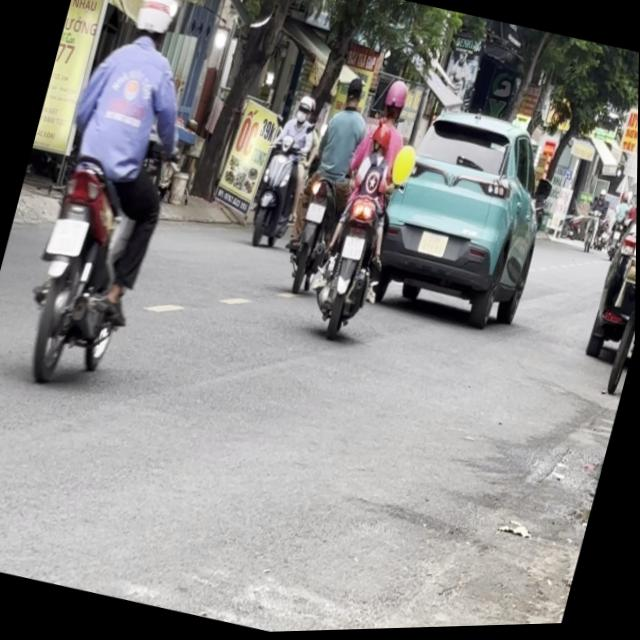helmet: (127, 0, 180, 48), (377, 77, 411, 126), (293, 93, 314, 125)
licenseplate: (3, 0, 220, 399), (306, 69, 430, 346), (274, 69, 380, 299), (240, 88, 325, 254)
motorcyclist: (341, 73, 366, 111)
nohelmet: (46, 213, 88, 258), (341, 235, 364, 260), (305, 202, 325, 224)
